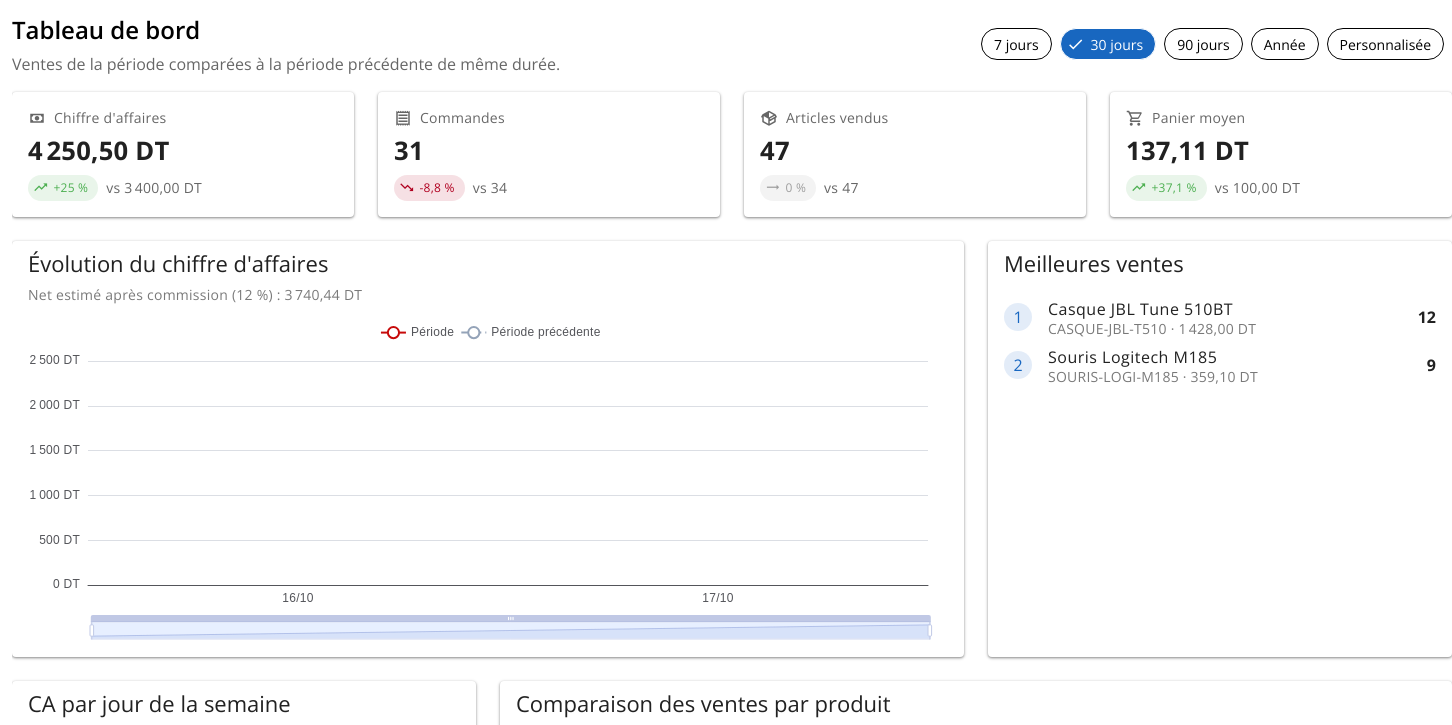
Test: Tableau de bord › signale une plage personnalisée inversée sans interroger l'API
Click the element showing "Personnalisée" at (1385, 44), box [1326,28,1444,60]
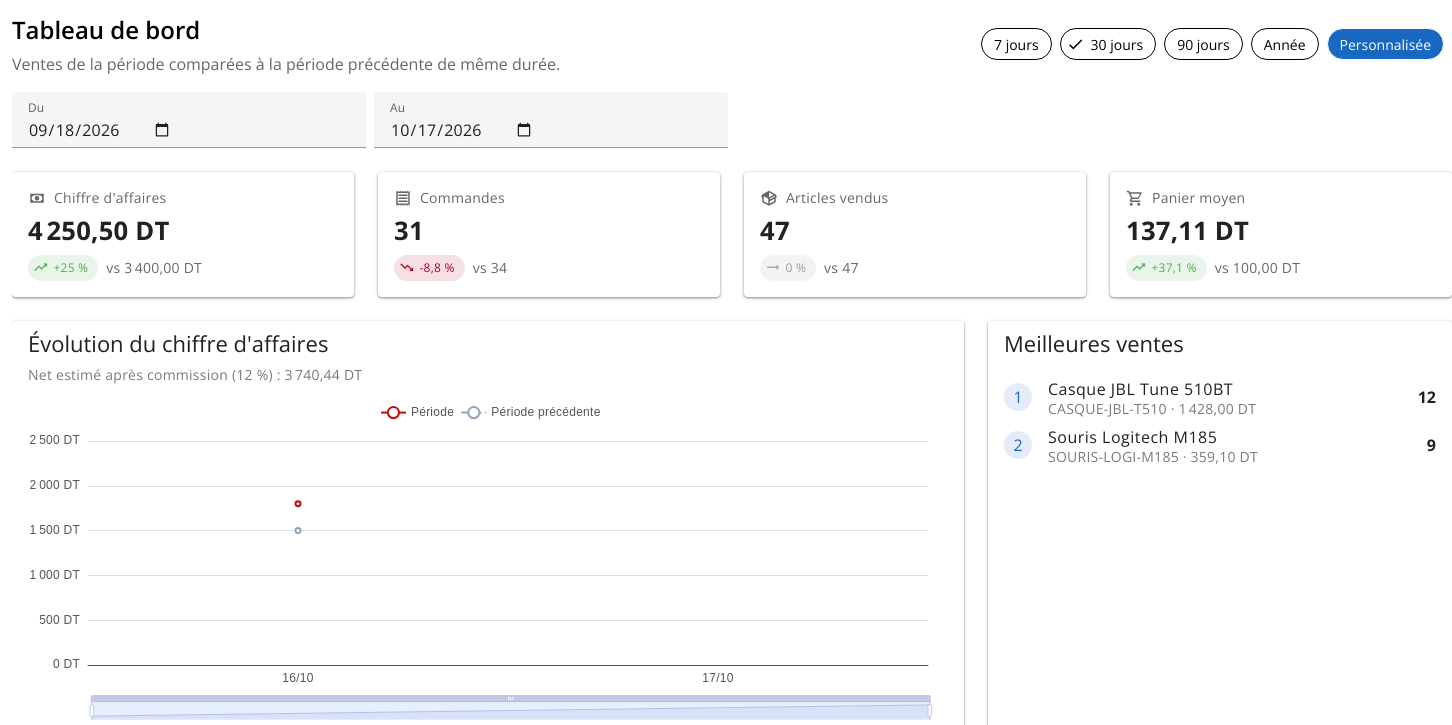
Type "2026-09-30" into the date field labelled "Du" at (189, 120), box [12,92,366,148]
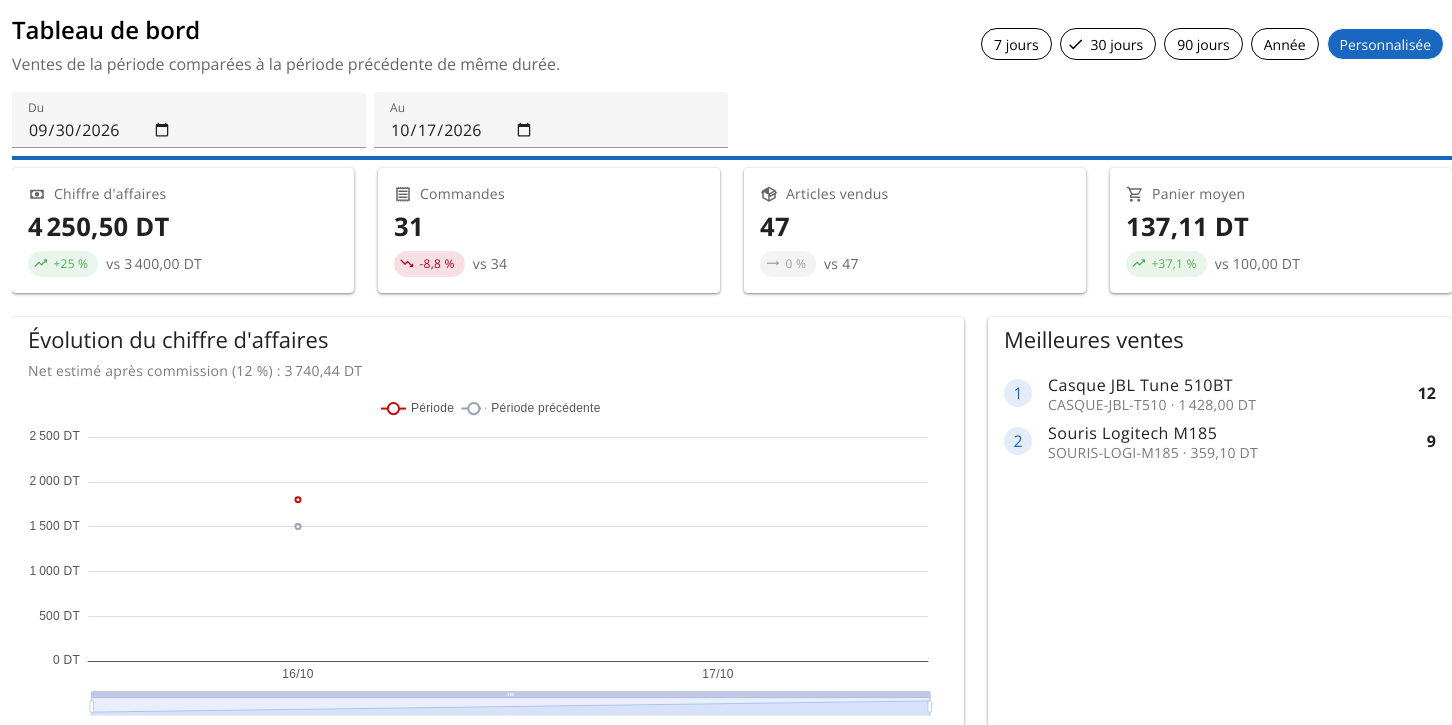
Type "2026-09-01" into the date field labelled "Au" at (551, 120), box [374,92,728,148]
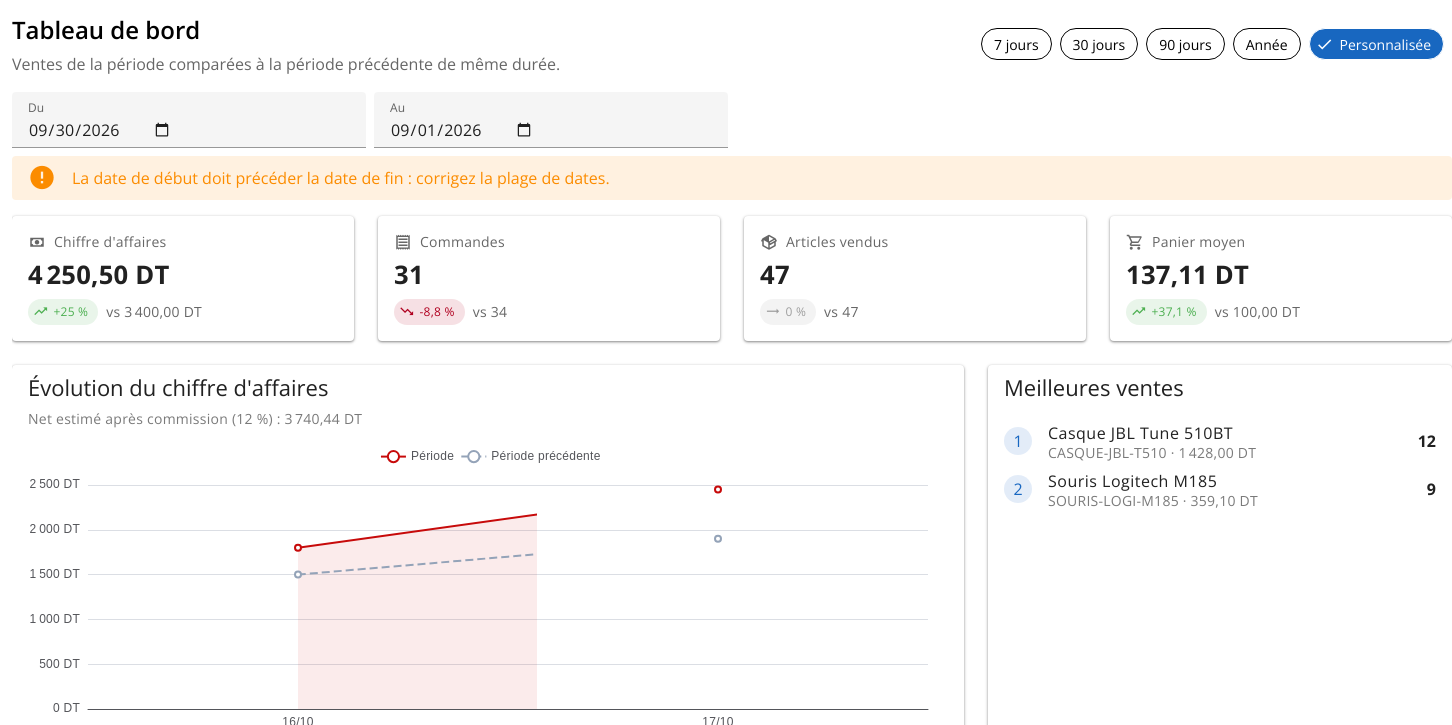
Expected: the message "La date de début doit précéder la date de fin : corrigez la plage de dates." is shown, [12,156,1451,200]
